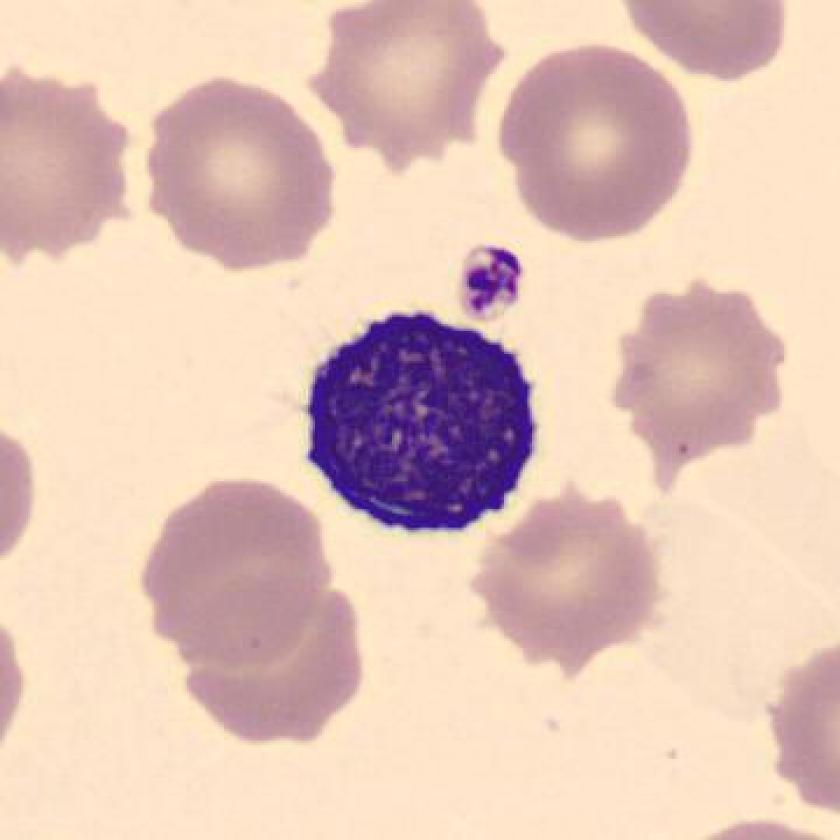lymphocyte: (286, 300, 556, 554)
